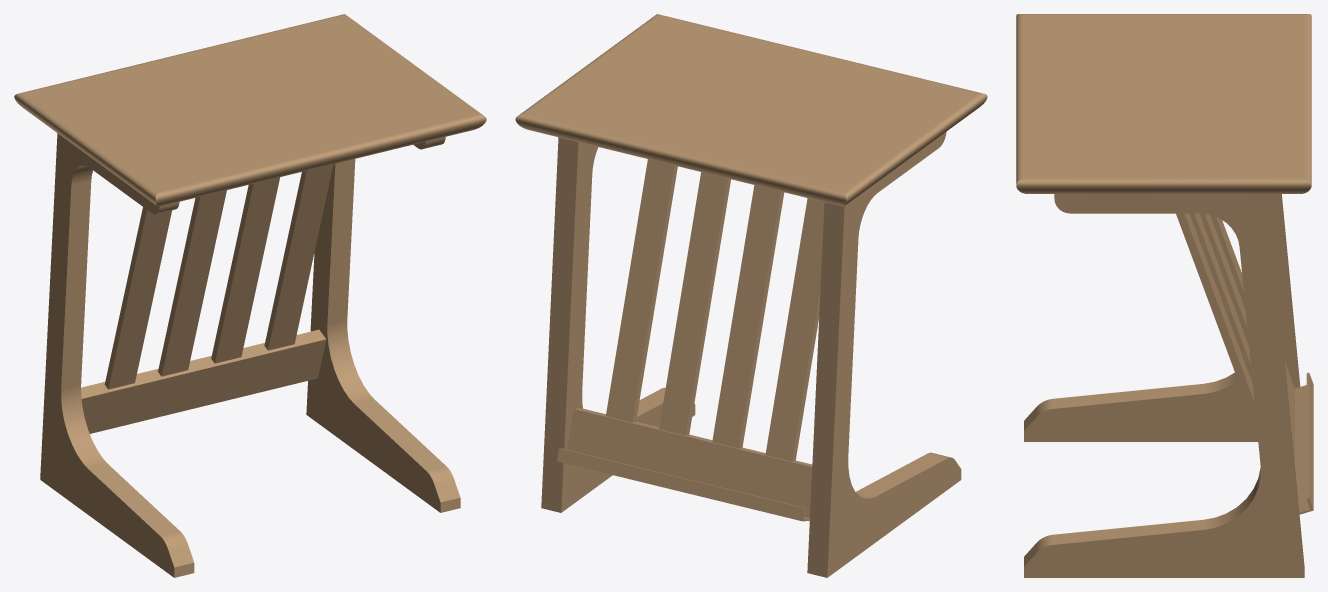
Rendered from 485_サイドテーブル.glb.
The picture shows the model from 3 angles, left to right: view 1: azimuth 30°, elevation 25°; view 2: azimuth 150°, elevation 25°; view 3: azimuth 270°, elevation 25°; orthographic projection. The views are drawn at different scales.
Parts seen in each view (by area): view 1: Body; view 2: Body; view 3: Body.
Boxes of the visible parts, x1,y1,x2,y2 form: Body: (14, 14, 486, 577); Body: (515, 14, 987, 577); Body: (1016, 14, 1313, 577).
Size of the model in its own units: 0.4974 by 0.56 by 0.37.
